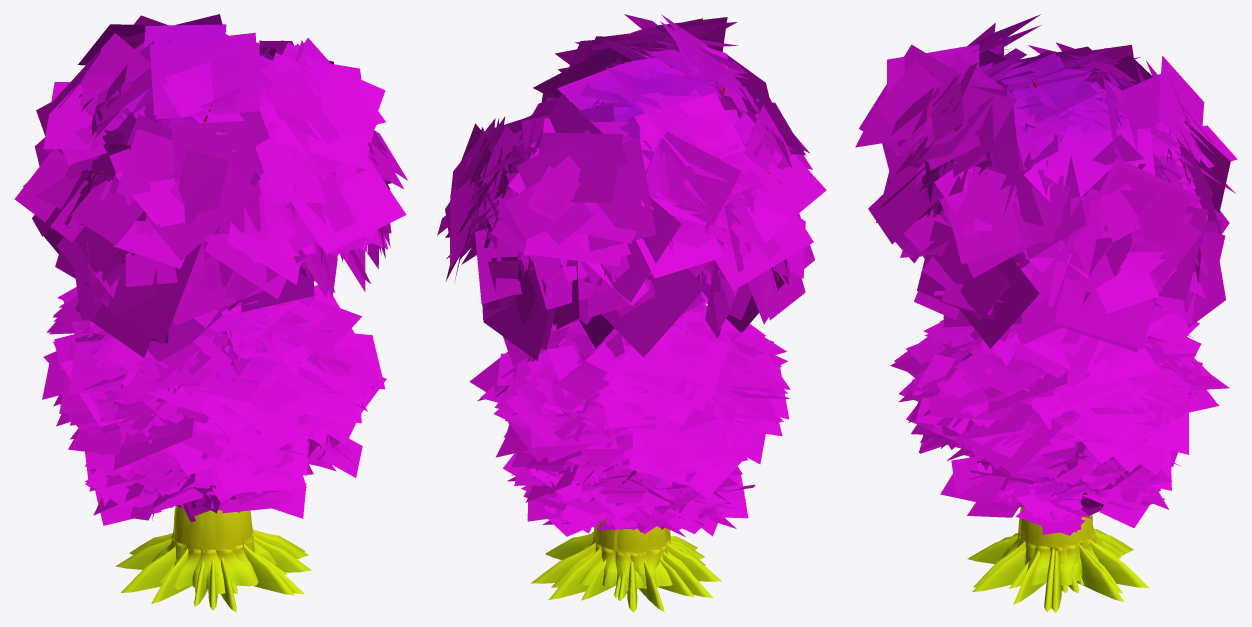
Rendered from trees.glb.
3 views of the same model, side by side, from view 1: azimuth 30°, elevation 25°; view 2: azimuth 150°, elevation 25°; view 3: azimuth 270°, elevation 25° (orthographic). The views are drawn at different scales.
Parts seen in each view (by area): view 1: emergent_0_far, emergent_0_near, emergent_1_far, emergent_1_near, jungle_0_far, jungle_2_far, emergent_2_far, jungle_1_far, emergent_2_near, jungle_0_near, jungle_1_near, acacia_1_far (+10 smaller); view 2: emergent_0_far, emergent_0_near, emergent_1_far, emergent_2_far, jungle_0_far, jungle_1_far, emergent_2_near, jungle_2_far, emergent_1_near, jungle_0_near, acacia_2_far, jungle_1_near (+10 smaller); view 3: emergent_0_far, emergent_0_near, emergent_2_far, emergent_2_near, jungle_1_far, emergent_1_far, emergent_1_near, jungle_2_far, jungle_1_near, jungle_0_far, acacia_0_far, jungle_0_near (+9 smaller).
Part boxes in pixels (box(x1,y1,x2,y2)): emergent_0_far: box(34, 14, 406, 589); emergent_0_near: box(58, 47, 385, 612); emergent_1_far: box(14, 38, 407, 592); emergent_1_near: box(35, 54, 390, 606); jungle_0_far: box(42, 298, 382, 470); jungle_2_far: box(56, 285, 386, 493); emergent_2_far: box(36, 33, 391, 592); jungle_1_far: box(53, 272, 366, 592); emergent_2_near: box(50, 57, 391, 610); jungle_0_near: box(53, 286, 360, 594); jungle_1_near: box(79, 314, 351, 593); acacia_1_far: box(85, 452, 210, 525); emergent_0_far: box(450, 14, 826, 574); emergent_0_near: box(461, 14, 809, 612); emergent_1_far: box(475, 46, 814, 594); emergent_2_far: box(445, 92, 778, 596); jungle_0_far: box(504, 304, 790, 498); jungle_1_far: box(469, 292, 790, 472); emergent_2_near: box(437, 111, 758, 610); jungle_2_far: box(495, 327, 786, 478); emergent_1_near: box(493, 91, 805, 611); jungle_0_near: box(533, 338, 771, 600); acacia_2_far: box(503, 453, 745, 536); jungle_1_near: box(488, 311, 777, 597); emergent_0_far: box(855, 14, 1235, 612); emergent_0_near: box(874, 23, 1237, 612); emergent_2_far: box(895, 44, 1229, 592); emergent_2_near: box(902, 42, 1225, 612); jungle_1_far: box(890, 303, 1199, 475); emergent_1_far: box(876, 46, 1205, 588); emergent_1_near: box(887, 59, 1129, 604); jungle_2_far: box(899, 331, 1229, 476); jungle_1_near: box(906, 316, 1176, 593); jungle_0_far: box(898, 304, 1201, 445); acacia_0_far: box(940, 452, 1155, 535); jungle_0_near: box(908, 334, 1201, 588).
Size of the model in its own units: 17.58 by 26.46 by 17.07.
